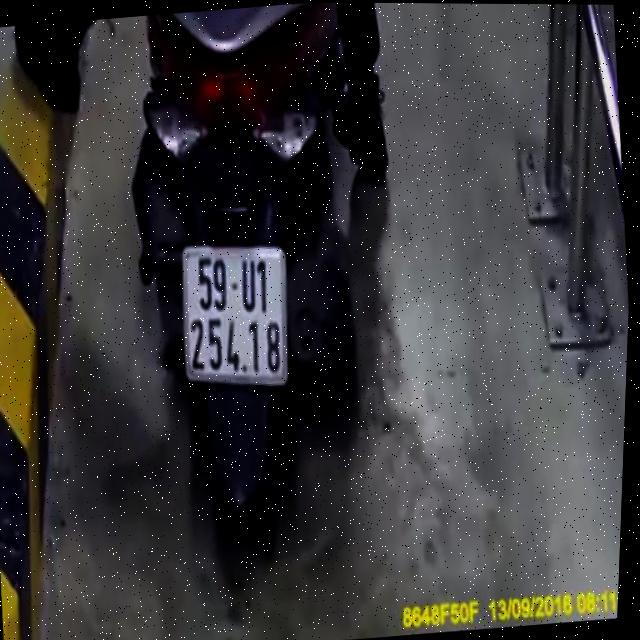motorcycle: (98, 1, 404, 553)
plate: (168, 235, 303, 401)
